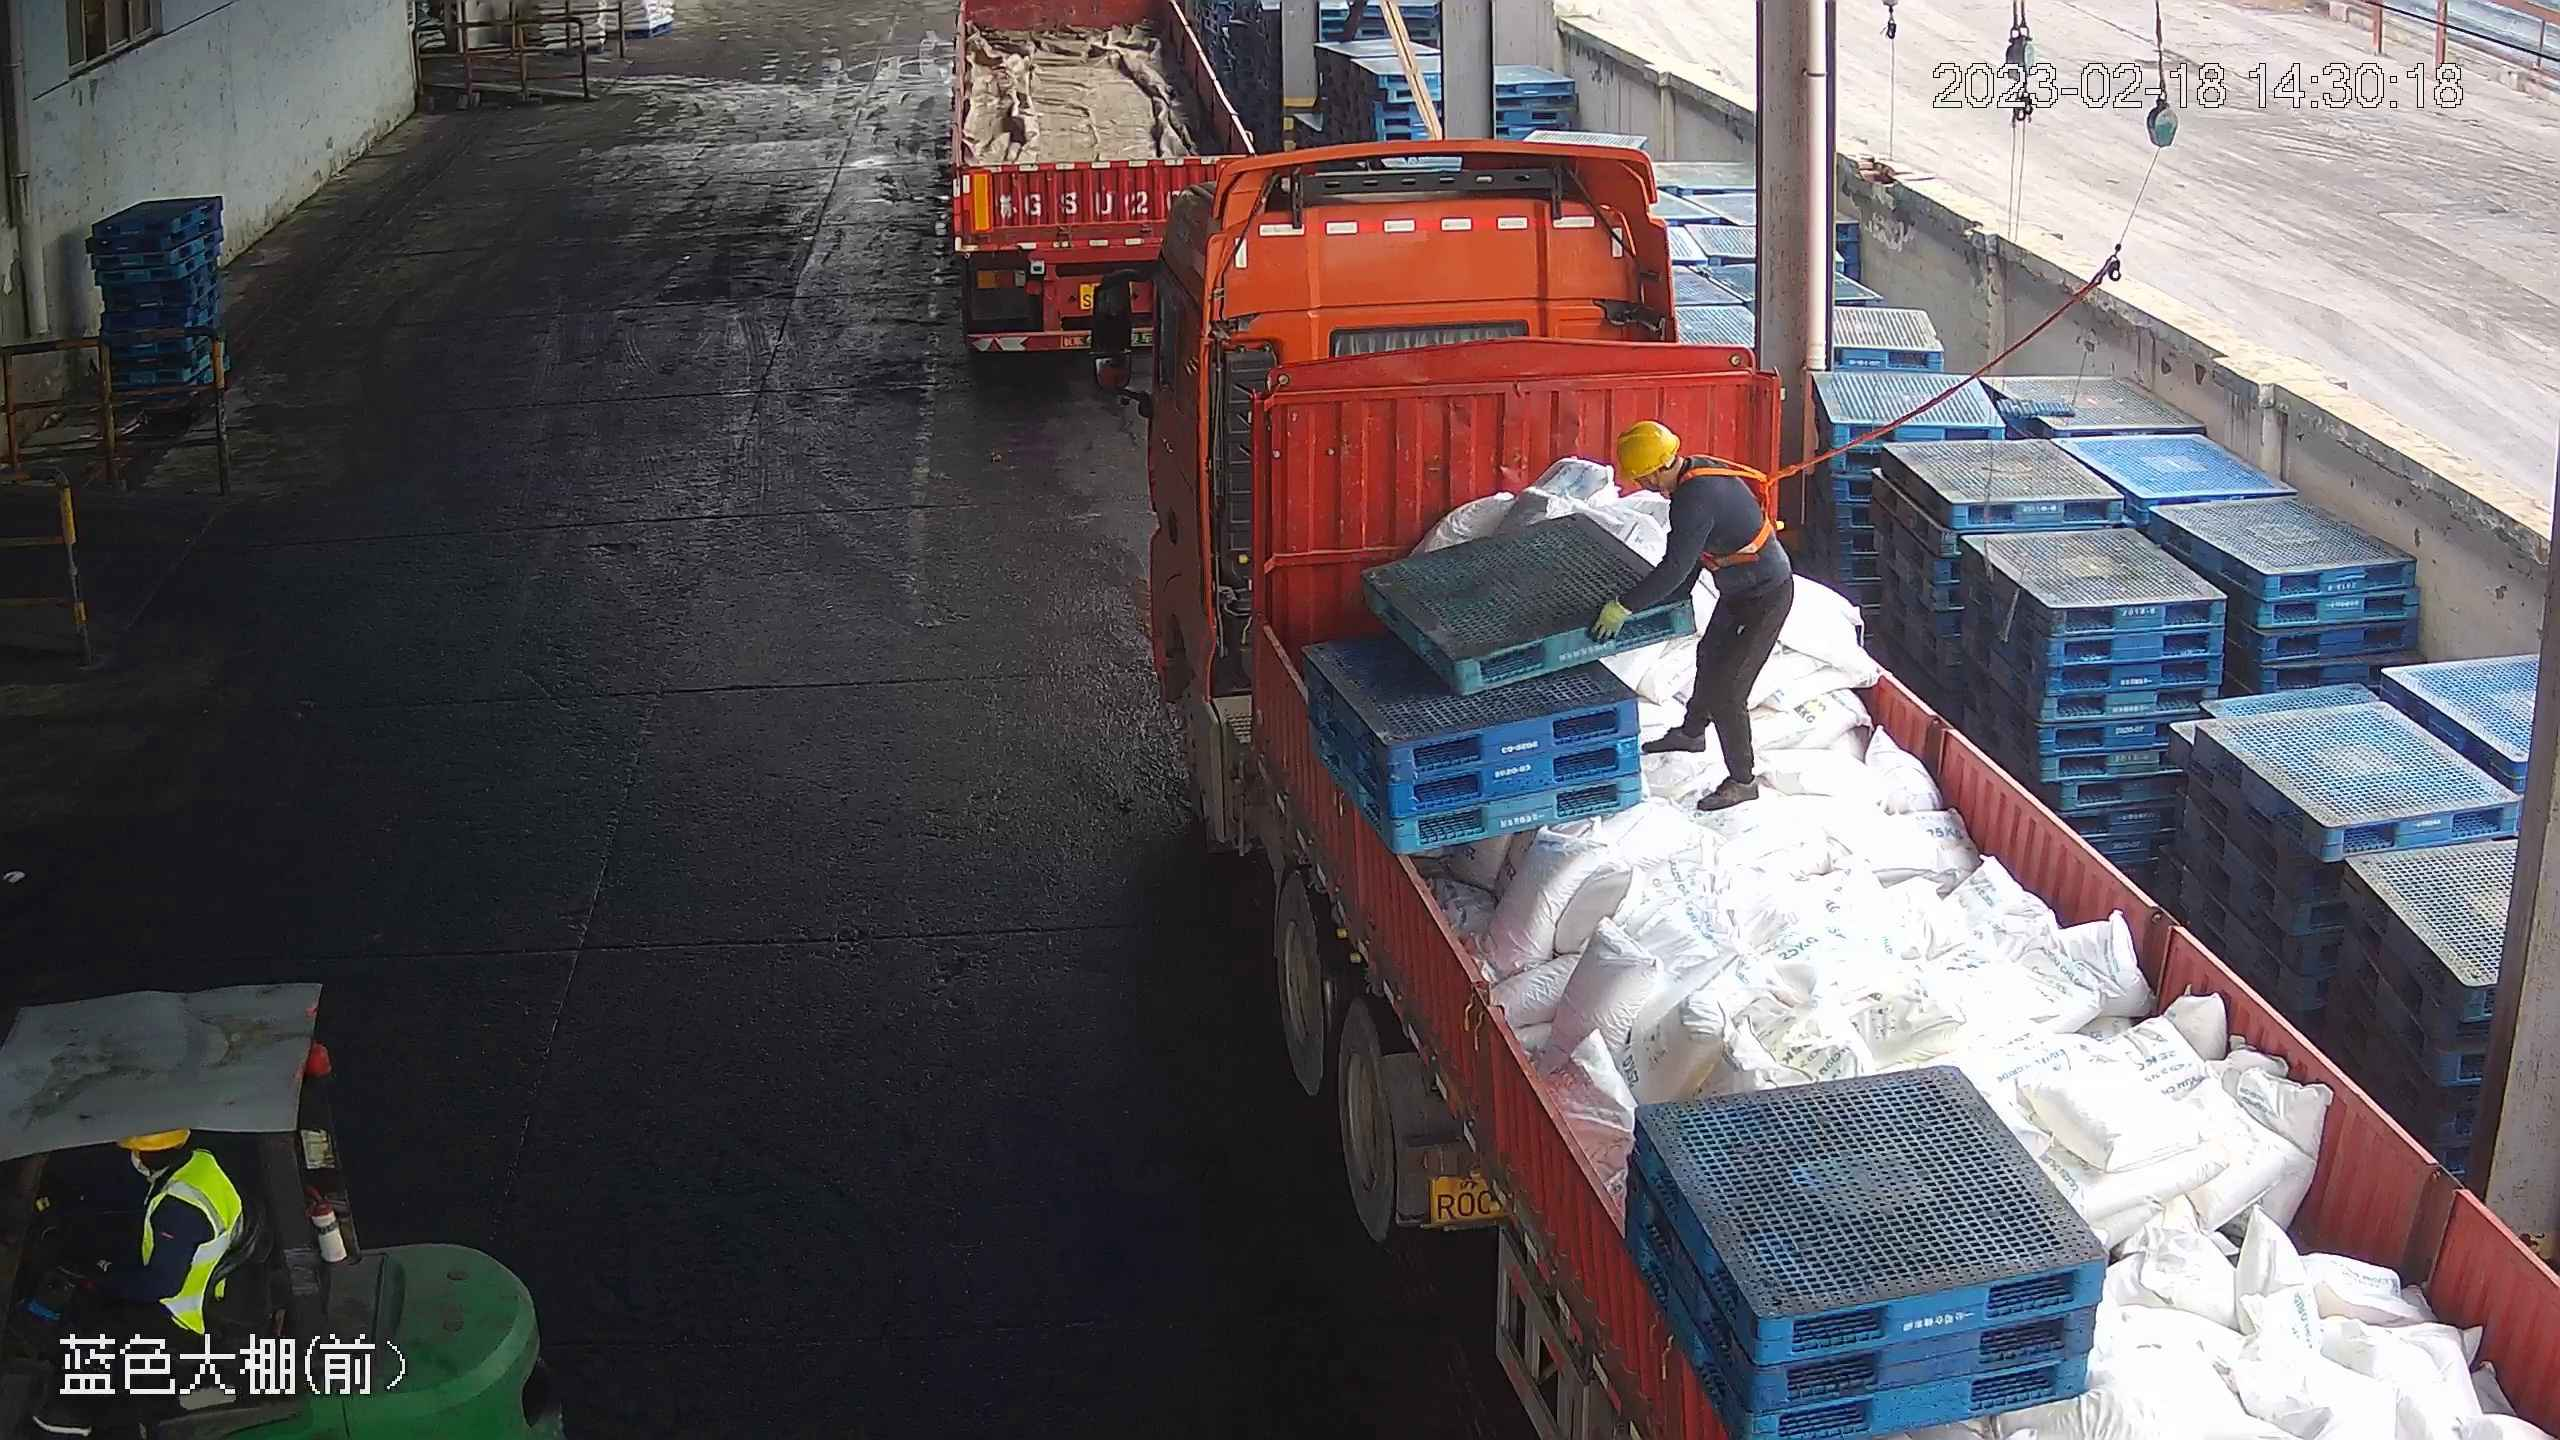belt: (1683, 444, 1787, 566)
head: (1614, 420, 1755, 542)
helmet: (1611, 420, 1681, 483)
people: (1602, 416, 1801, 812), (53, 1125, 247, 1426)
truck: (1089, 142, 2555, 1430), (937, 1, 1268, 374)
